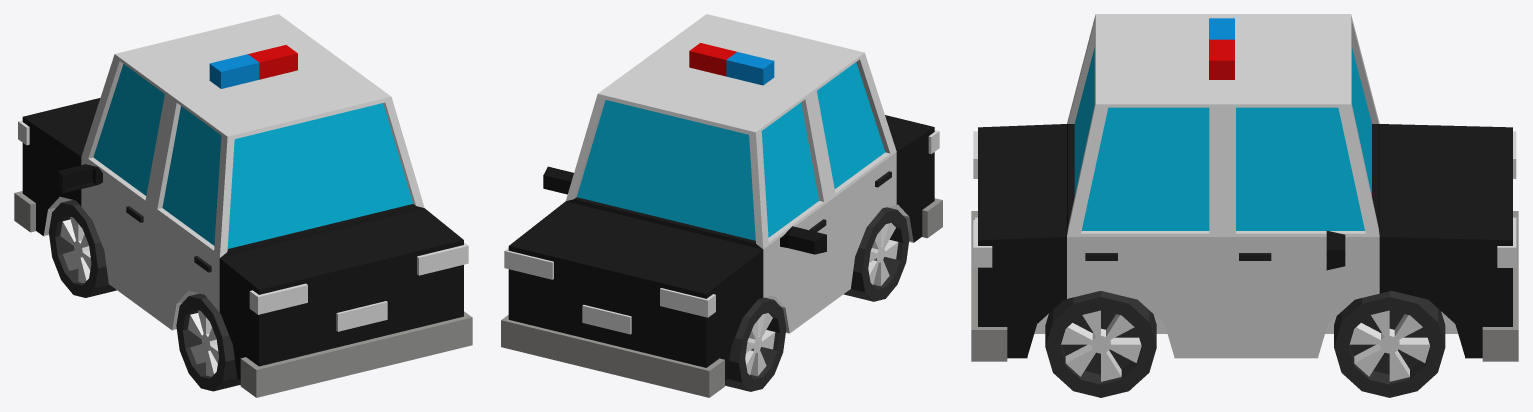
The model's file is policia.fbx.
The picture shows the model from 3 angles, left to right: view 1: azimuth 30°, elevation 25°; view 2: azimuth 150°, elevation 25°; view 3: azimuth 270°, elevation 25°; orthographic projection. The views are drawn at different scales.
Visible parts, largest first — view 1: carro.002, lataria t.002, Cilindro.012, Cilindro.008, lantern 1 T.002, lanterna 2 t.002, placa 2.002, lanterna 2 f.007, lataria f.002; view 2: carro.002, lataria f.002, Cilindro.008, Cilindro.012, lanterna 2 f.007, lanterna 1 f.002, lanterna 2 f.002, placa 1.002, lataria t.002; view 3: carro.002, Cilindro.012, Cilindro.008, lataria t.002, lataria f.002, lanterna 2 f.007, lanterna 2 t.002, lanterna 2 f.002.
Boxes of the visible parts, x1,y1,x2,y2 form: carro.002: [22, 14, 463, 380]; lataria t.002: [240, 311, 472, 397]; Cilindro.012: [176, 293, 240, 391]; Cilindro.008: [48, 200, 116, 297]; lantern 1 T.002: [249, 283, 307, 314]; lanterna 2 t.002: [417, 242, 468, 275]; placa 2.002: [336, 301, 387, 331]; lanterna 2 f.007: [58, 164, 102, 193]; lataria f.002: [14, 191, 35, 232]; carro.002: [508, 14, 934, 380]; lataria f.002: [501, 315, 724, 397]; Cilindro.008: [725, 297, 786, 391]; Cilindro.012: [843, 207, 909, 301]; lanterna 2 f.007: [543, 166, 826, 254]; lanterna 1 f.002: [660, 288, 715, 317]; lanterna 2 f.002: [504, 248, 553, 279]; placa 1.002: [582, 305, 631, 334]; lataria t.002: [922, 198, 942, 238]; carro.002: [978, 14, 1512, 358]; Cilindro.012: [1045, 291, 1156, 397]; Cilindro.008: [1334, 290, 1445, 397]; lataria t.002: [971, 211, 1007, 361]; lataria f.002: [1482, 211, 1518, 361]; lanterna 2 f.007: [1326, 230, 1345, 270]; lanterna 2 t.002: [973, 220, 992, 267]; lanterna 2 f.002: [1497, 220, 1516, 267].
Bounding box in the file's own units: 282 × 247 × 409.
